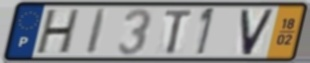1: (195, 6, 218, 58)
3: (116, 5, 156, 59)
H: (34, 7, 83, 56)
I: (84, 8, 110, 57)
T: (162, 8, 196, 56)
V: (239, 7, 277, 57)
